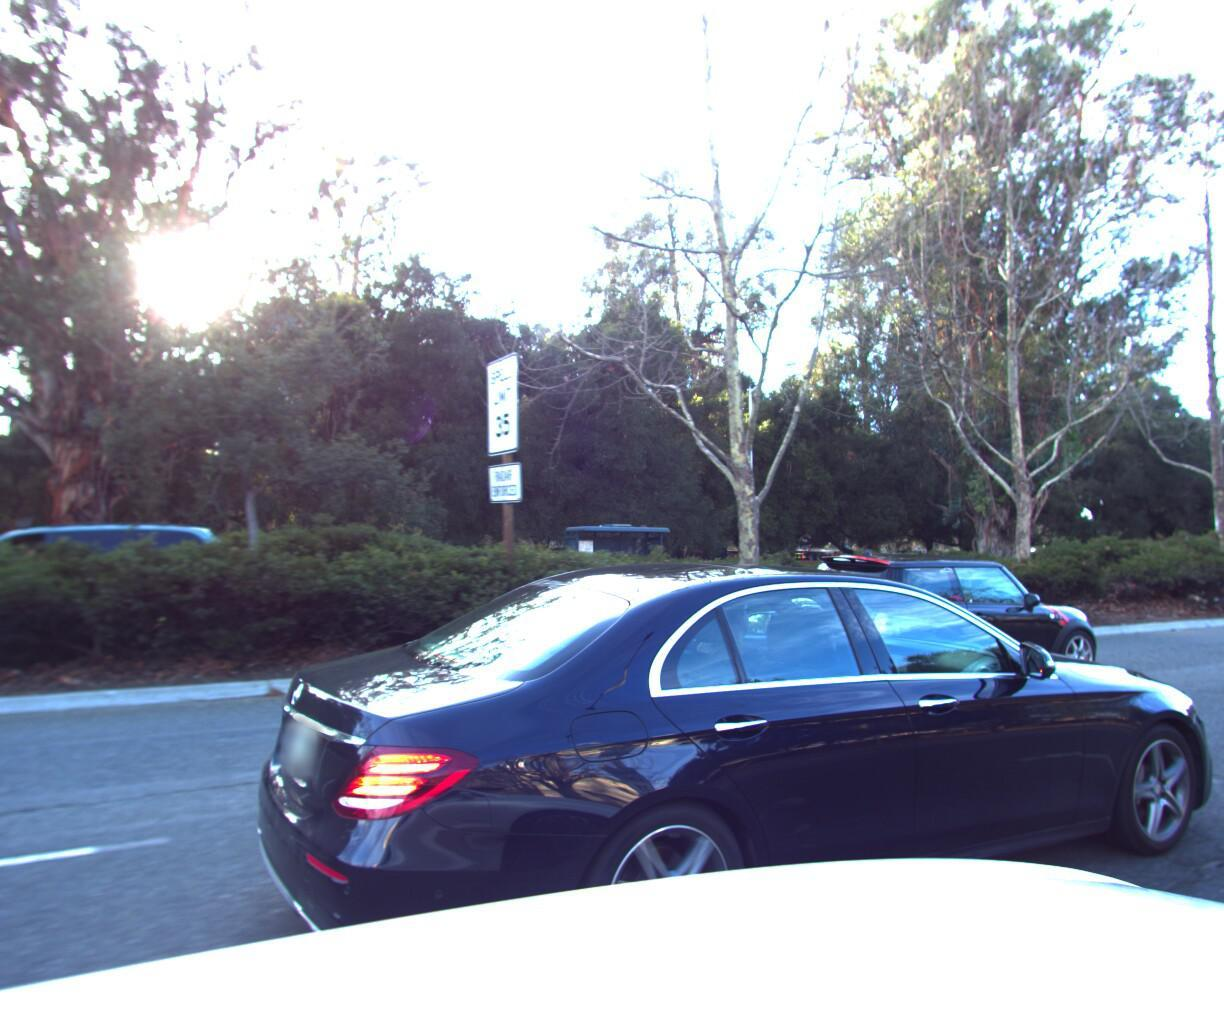car: (260, 529, 1224, 1024), (760, 538, 1096, 704), (0, 513, 217, 627)
